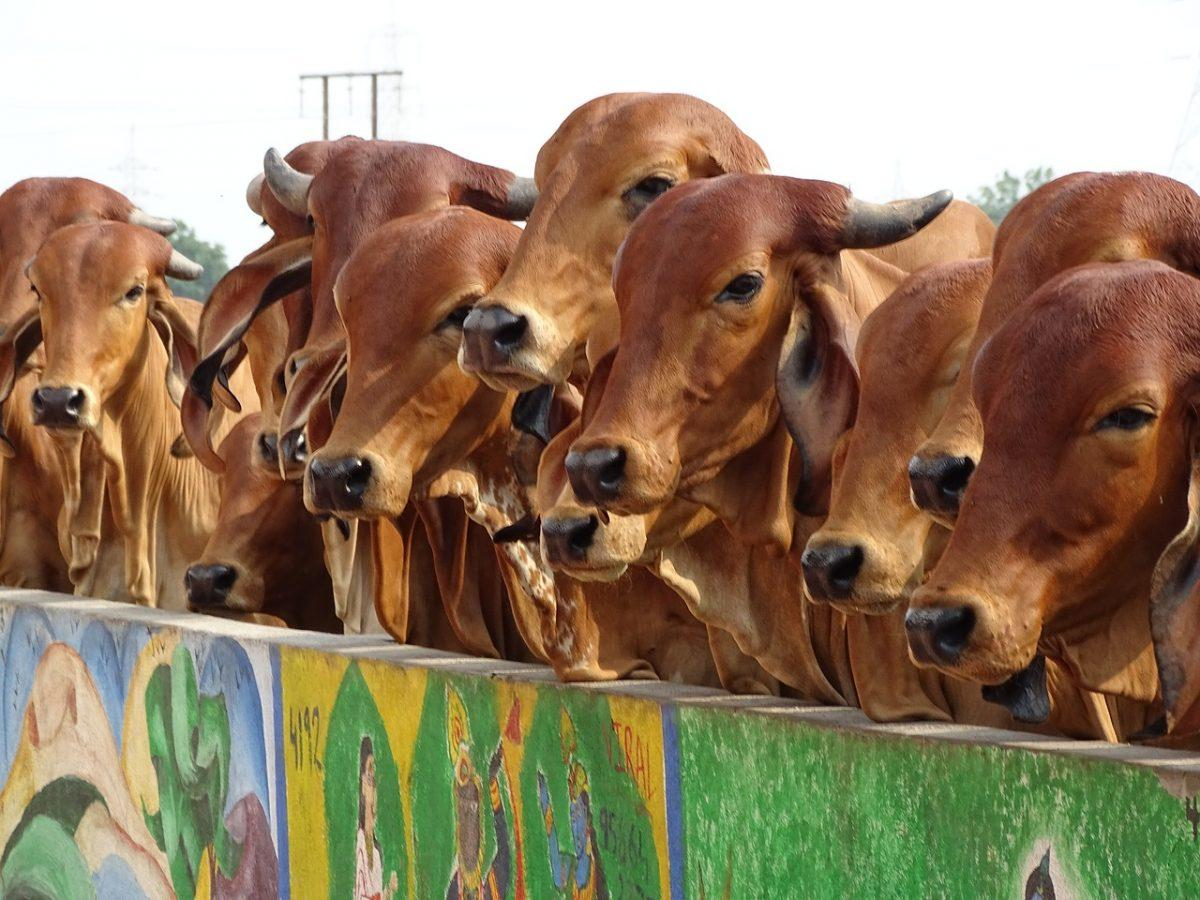cow: (0, 93, 1199, 743)
